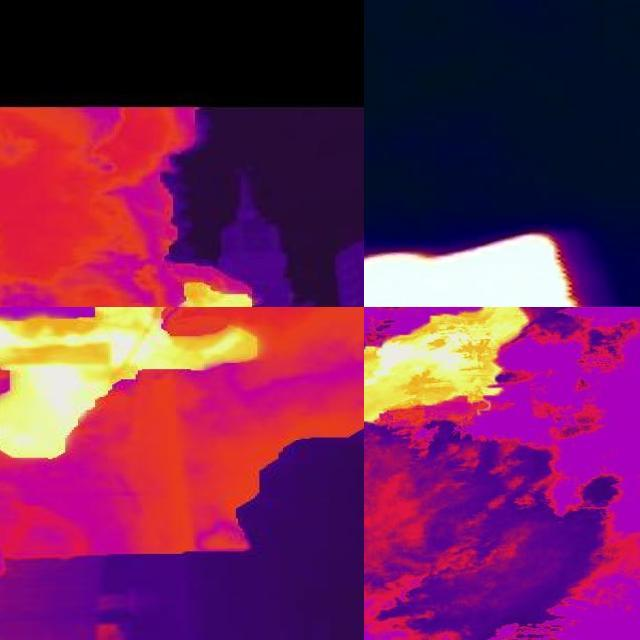fire: (1, 311, 263, 461), (366, 308, 536, 426), (365, 231, 585, 309), (178, 277, 253, 310)
